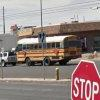Bus: (13, 32, 77, 67)
